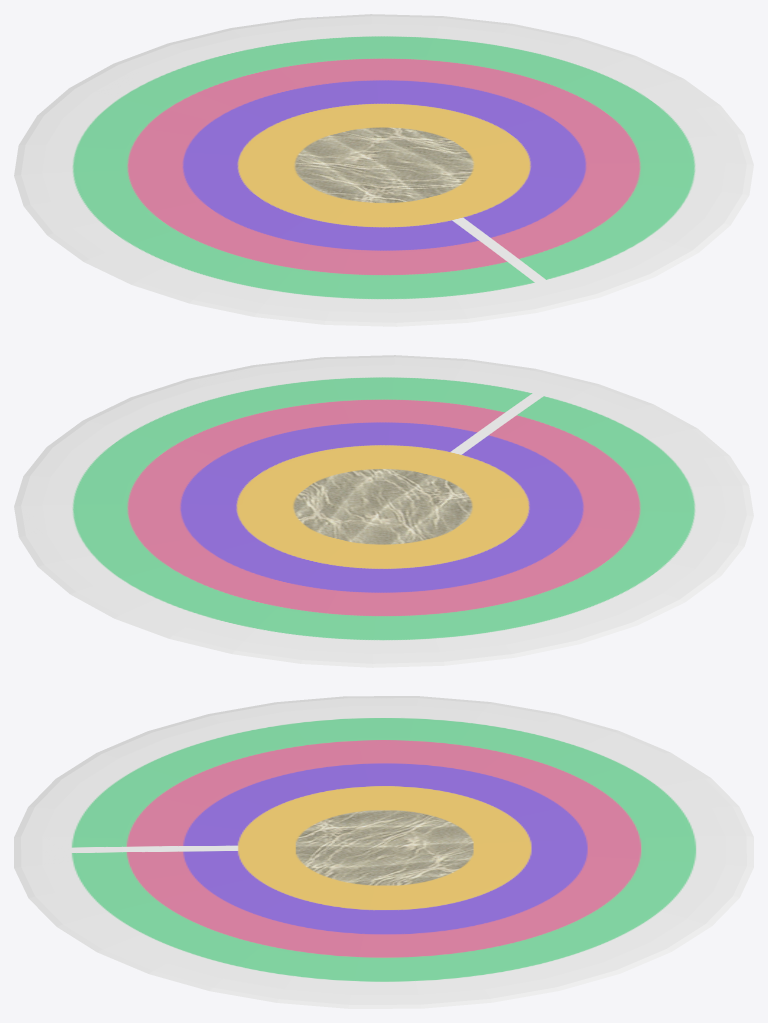
Rendered from race-track.glb.
3 renders of one model, top to bottom at view 1: azimuth 30°, elevation 25°; view 2: azimuth 150°, elevation 25°; view 3: azimuth 270°, elevation 25°, orthographic.
Visible parts, largest first — view 1: Sphere; view 2: Sphere; view 3: Sphere.
Boxes of the visible parts, x1,y1,x2,y2 form: Sphere: (14, 14, 753, 326); Sphere: (14, 355, 753, 667); Sphere: (14, 696, 753, 1008).
Size of the model in its own units: 15.92 by 0.2373 by 15.92.
1 material, 1 textured.
